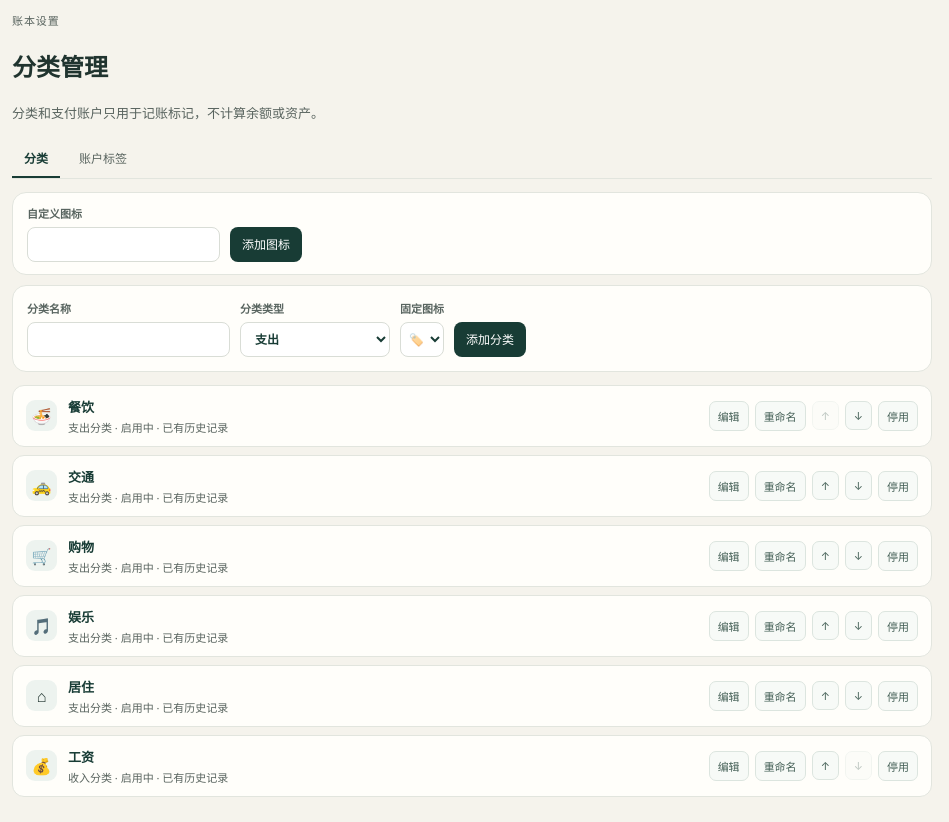
Test case: LabelsPage › 从图标编辑切换到重命名时只保留重命名编辑区
Click the button with aria-label "编辑 餐饮": coordinates (729, 416) [709,401,749,431]
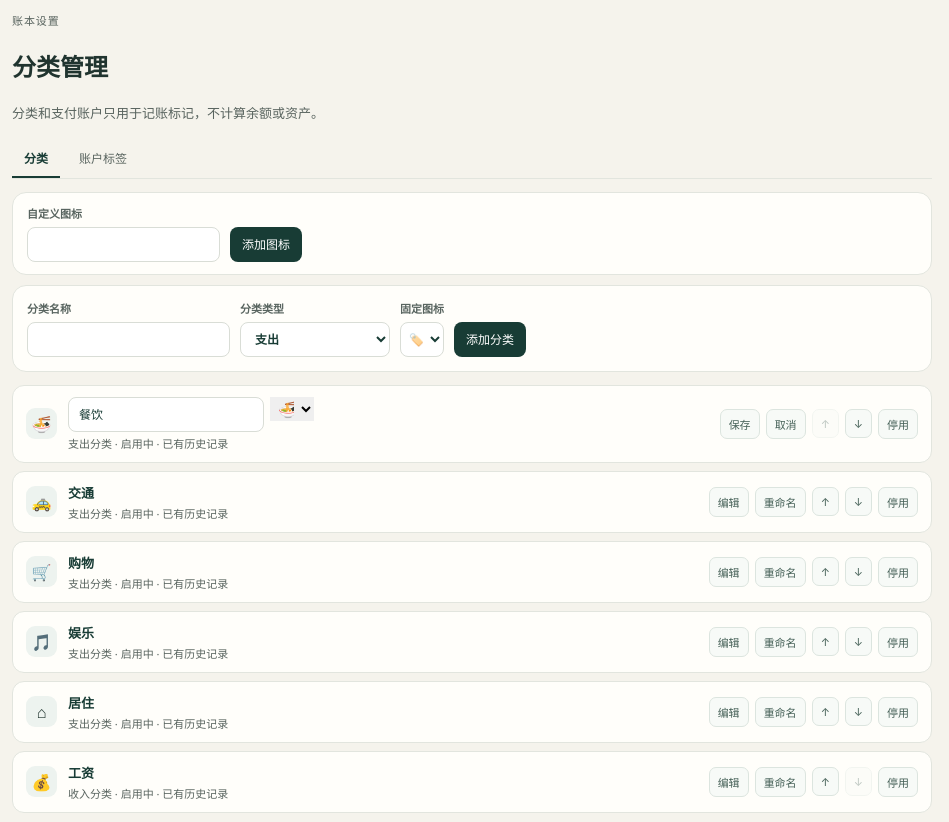
Click the button "重命名" in the row of "交通": coordinates (780, 502) [755,487,806,517]
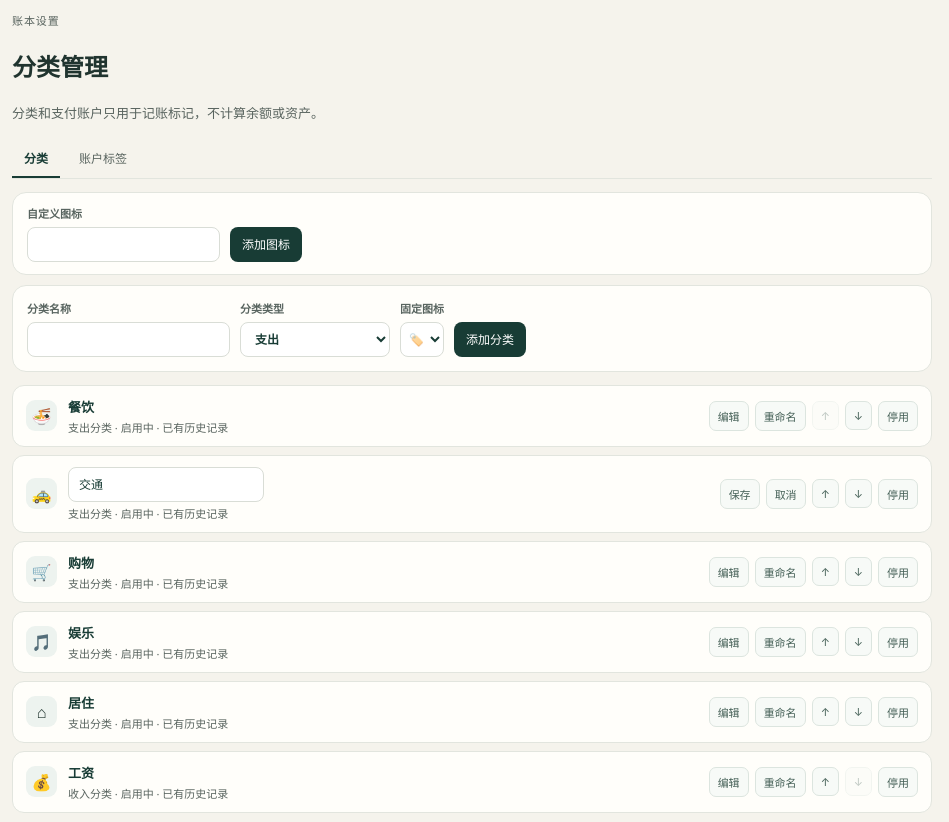
Expected: the field named "交通 分类名称" holds "交通", [68,467,264,502]
